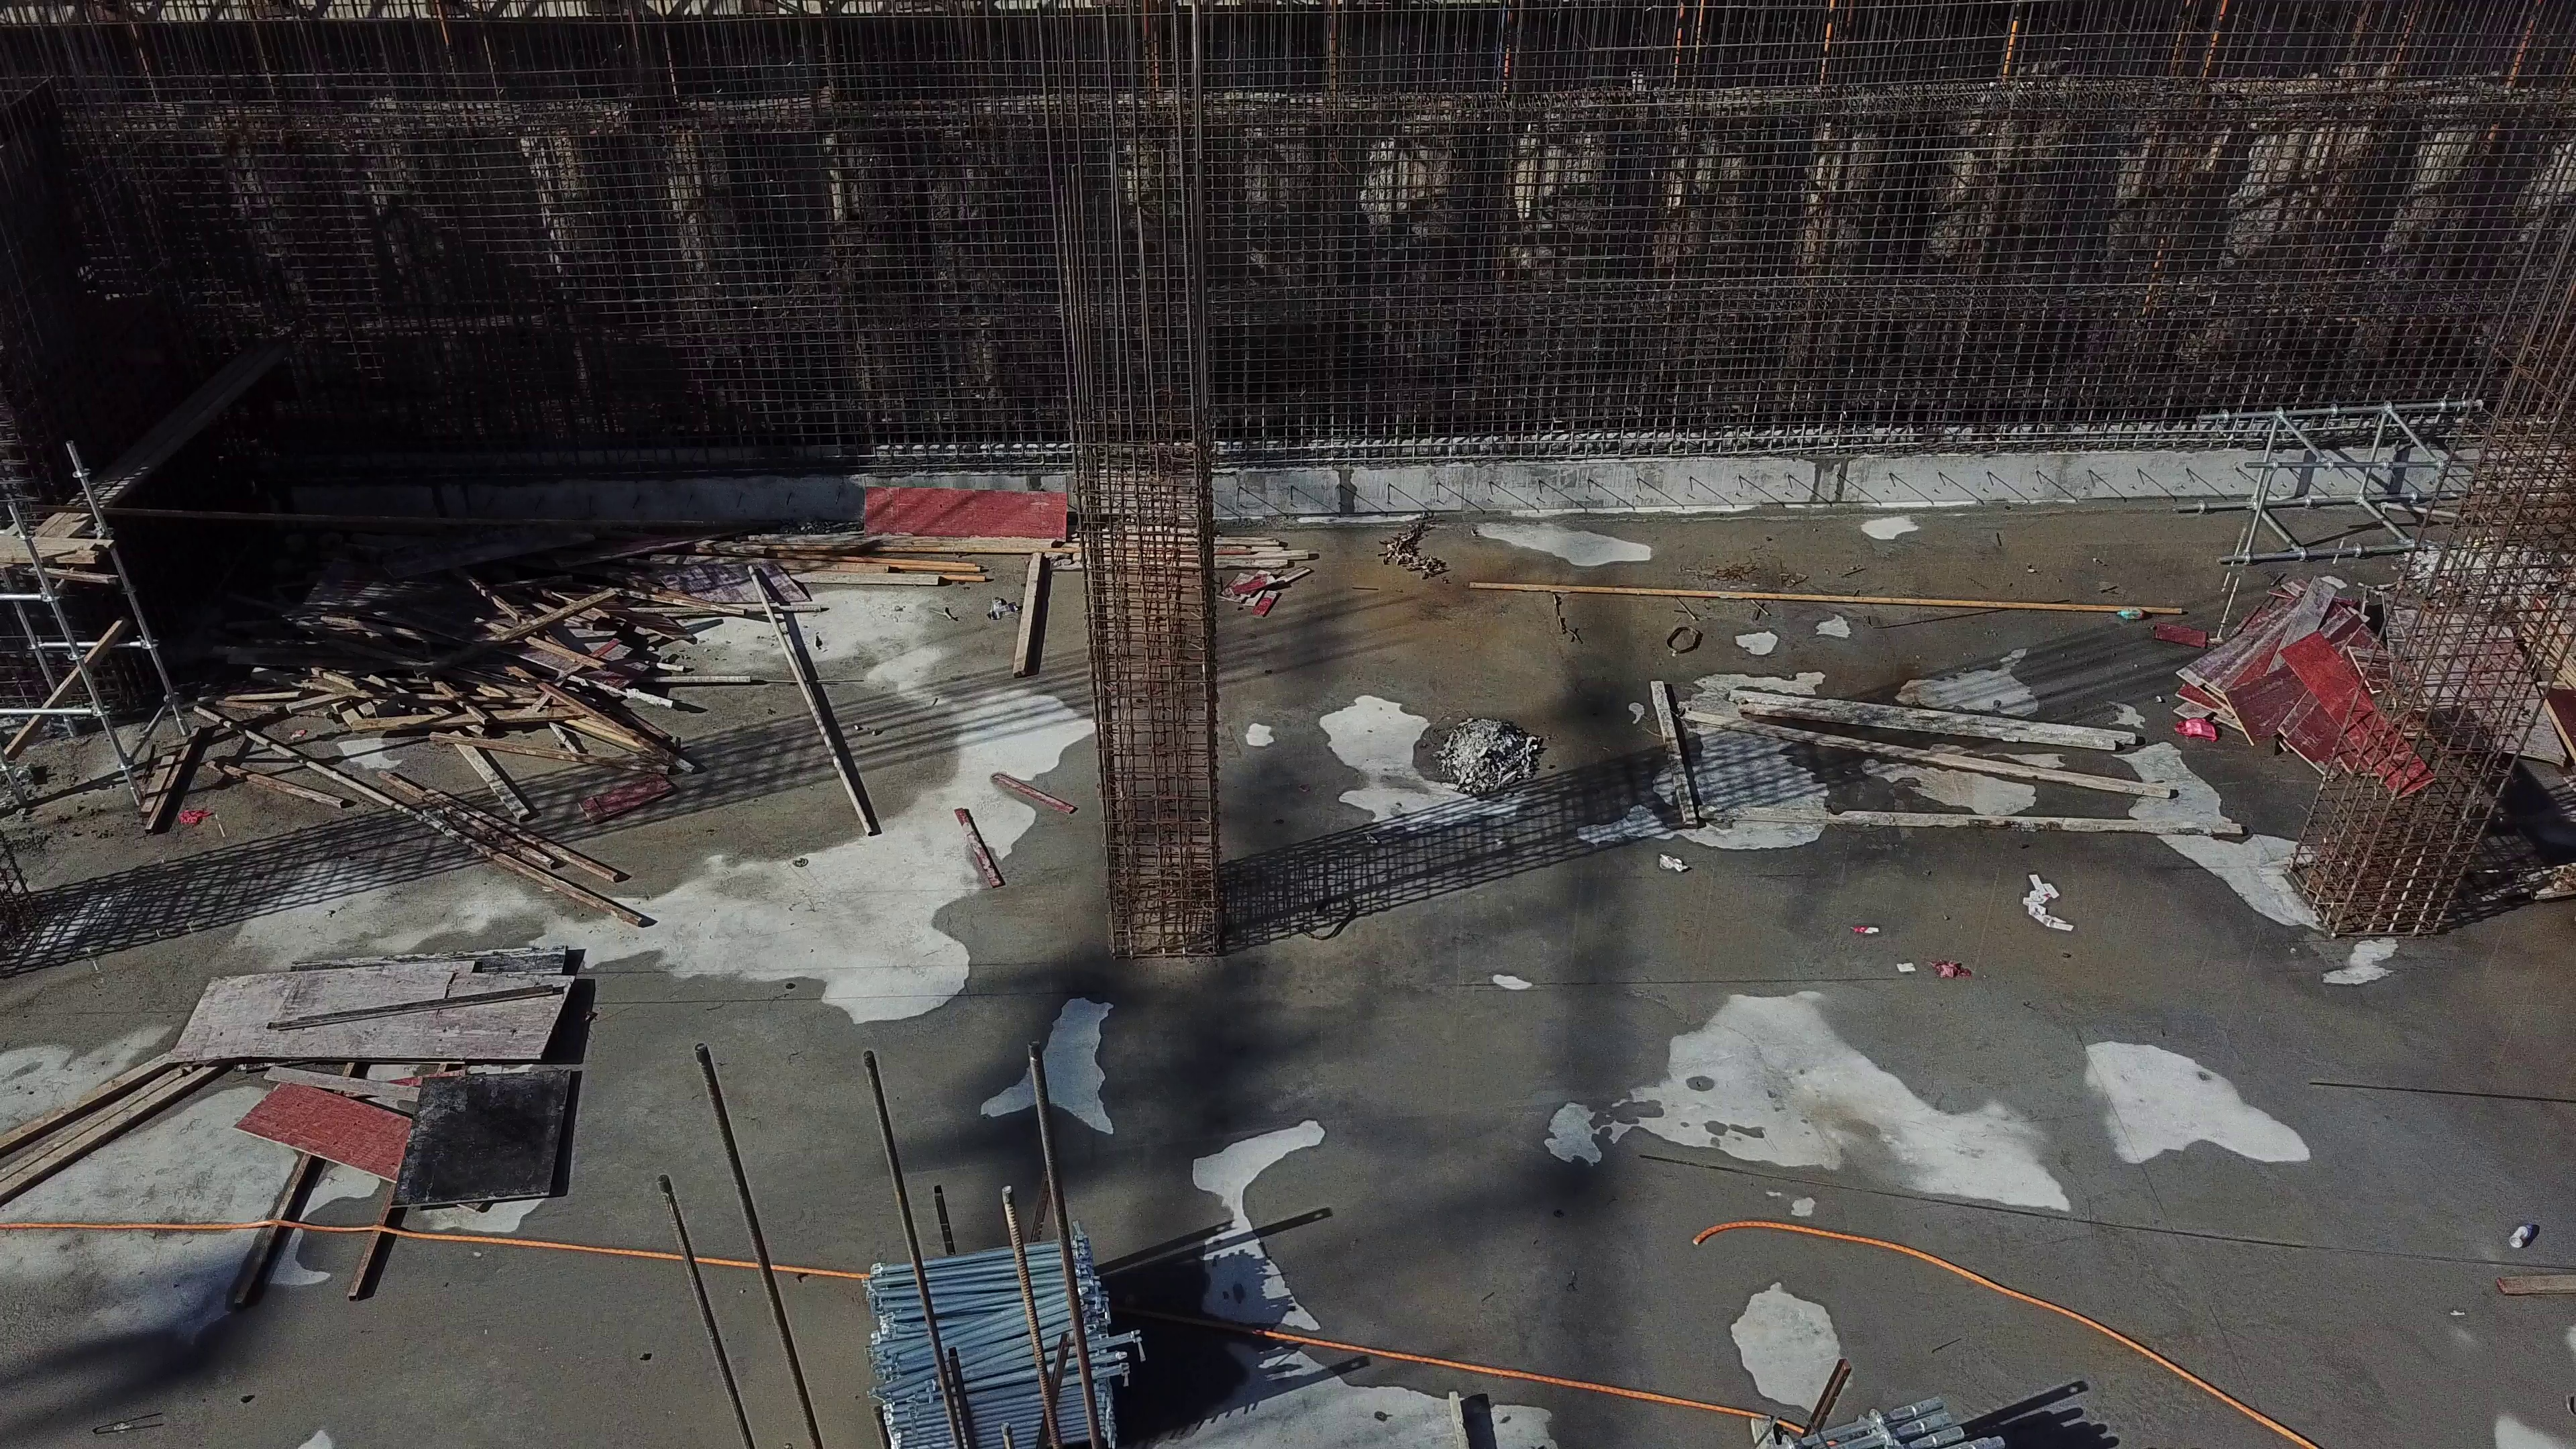board: (2171, 564, 2396, 782)
scaffold: (840, 1240, 1150, 1449)
